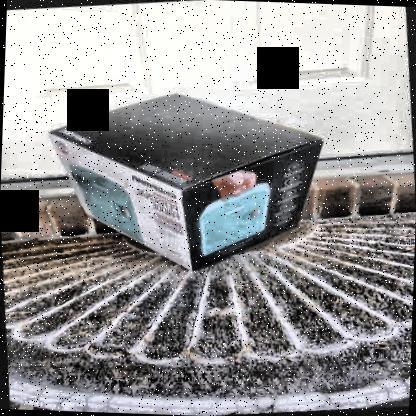no defect parcel: (37, 83, 363, 285)
